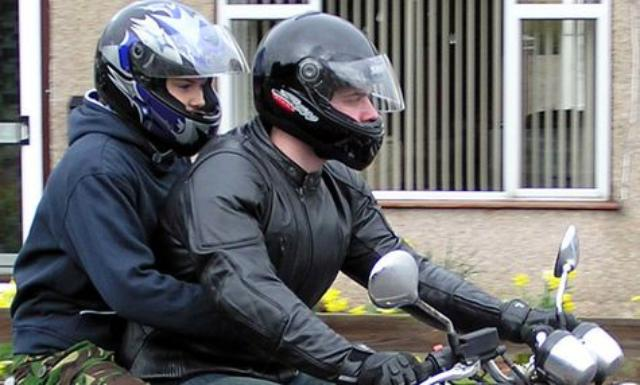helm: (249, 12, 407, 175), (94, 1, 252, 151)
